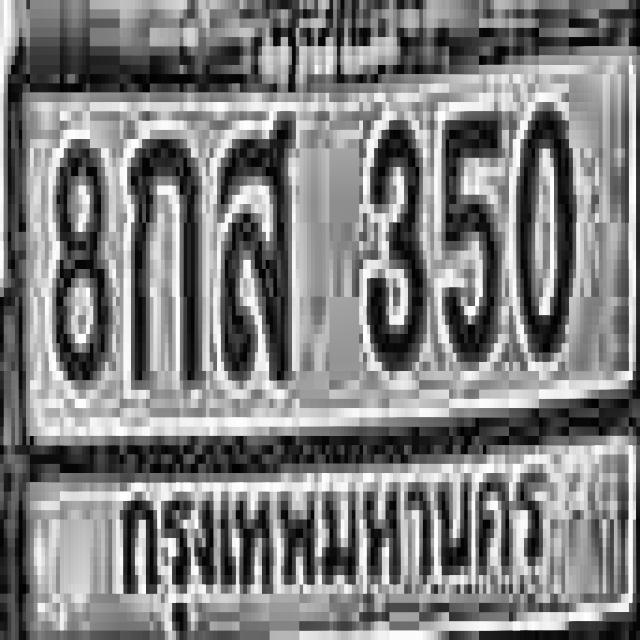license-plate: (3, 37, 640, 640)
